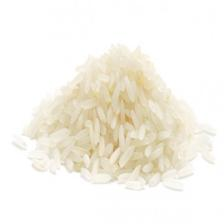rice: (11, 41, 217, 190)
